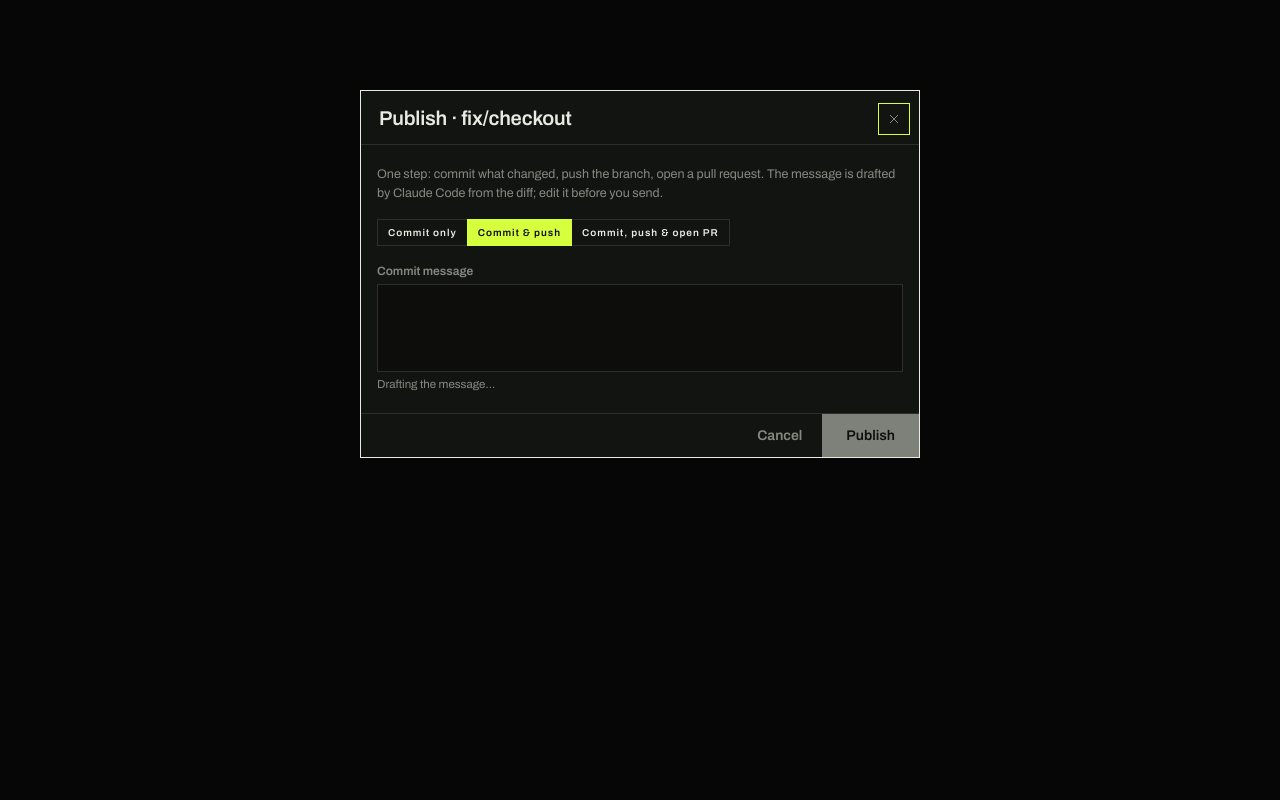
Test: PublishModal › a late draft never overwrites what the user typed
This screenshot has width=1280, height=800.
Type "Typed first" into the text box labelled "Commit message" at (640, 328), box [377, 284, 903, 372]
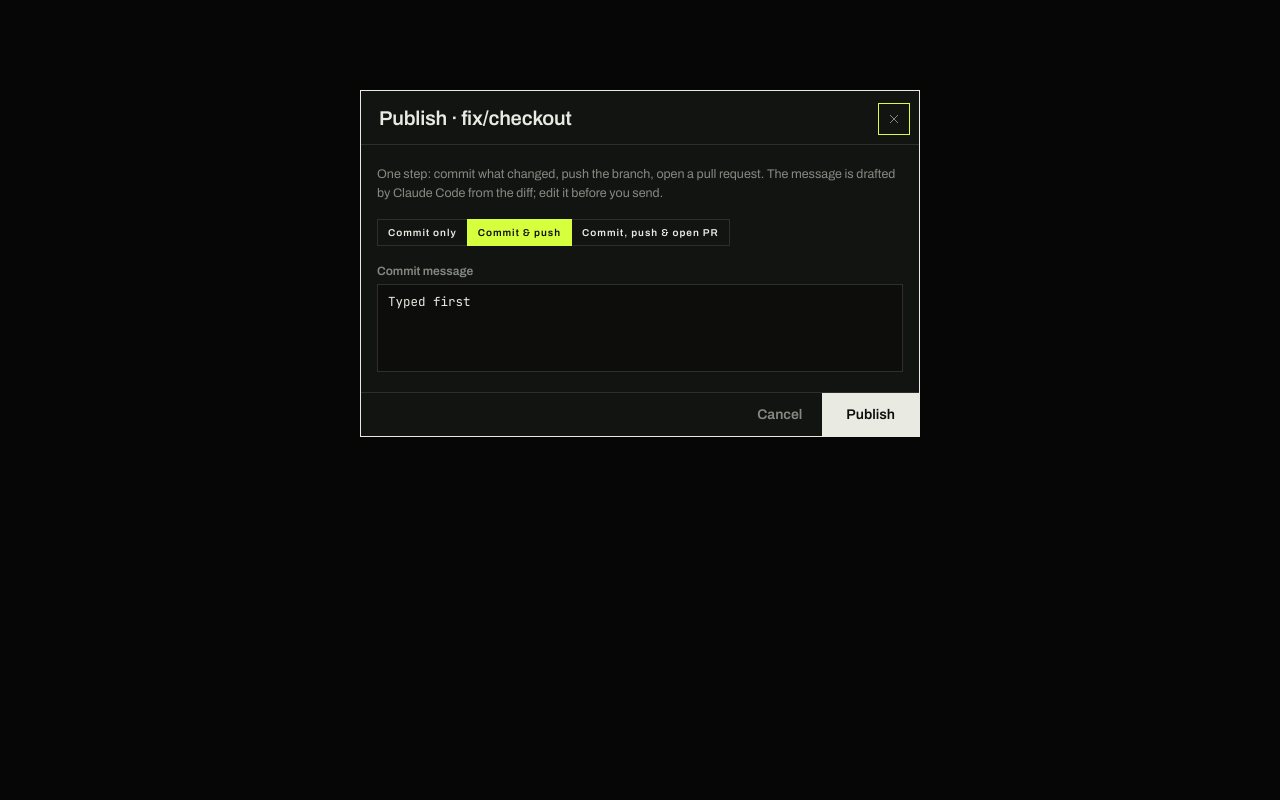
Expected: the text "Drafting the message…" is gone
